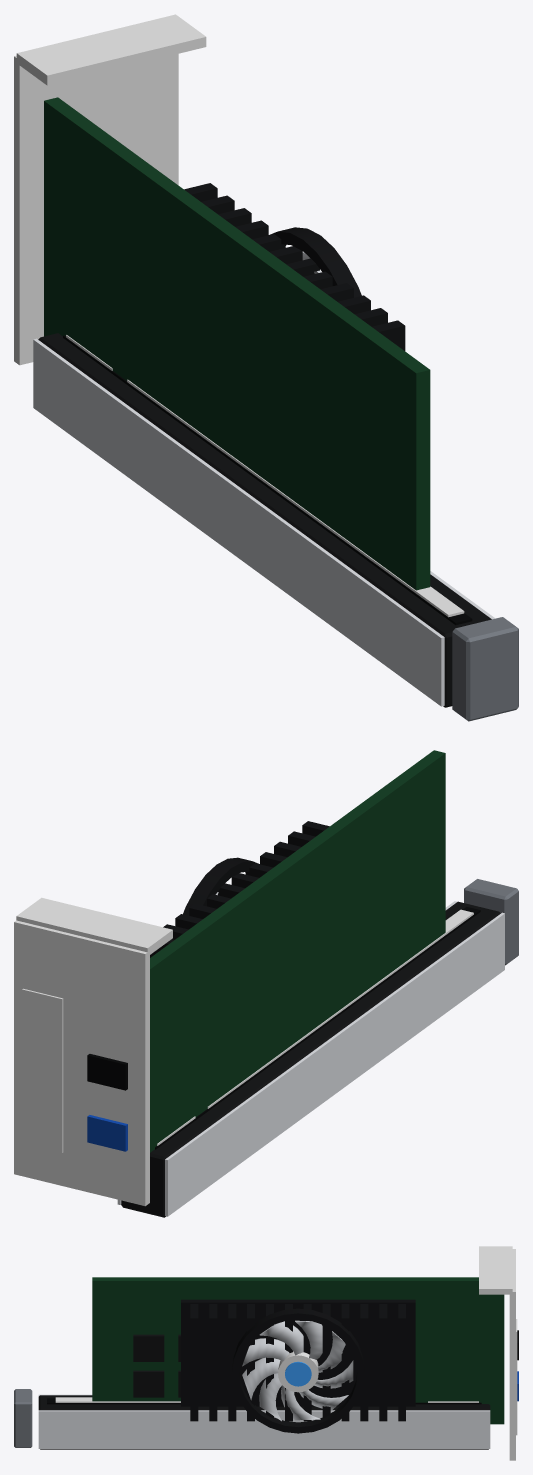
The model's file is hwm_gpu_gt1030.glb.
3 views of the same model, one above another, from view 1: azimuth 30°, elevation 25°; view 2: azimuth 150°, elevation 25°; view 3: azimuth 270°, elevation 25° (orthographic). The views are drawn at different scales.
Visible parts, largest first — view 1: Card_0, Slot_0; view 2: Card_0, Slot_0; view 3: Card_0, Slot_0, Rotor_X_0.
Part boxes in pixels (x1,y1,x2,y2): Card_0: (14,14,464,617); Slot_0: (33,333,518,721); Card_0: (14,750,473,1206); Slot_0: (117,879,518,1217); Card_0: (55,1246,518,1460); Slot_0: (14,1389,490,1449); Rotor_X_0: (242,1320,353,1421).
Size of the model in its own units: 0.0369 by 0.0741 by 0.179.
